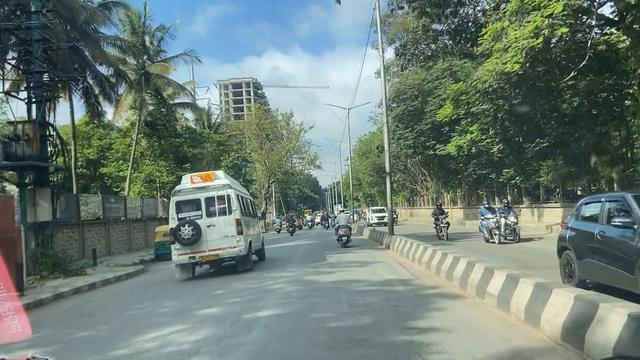HMV: (168, 180, 269, 270)
